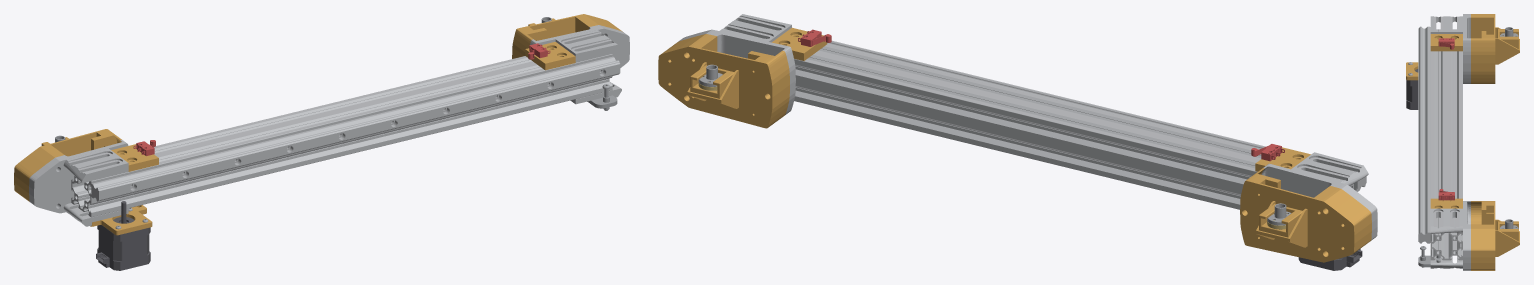
The model's file is y_axis_assembly.glb.
The picture shows the model from 3 angles, left to right: view 1: azimuth 30°, elevation 25°; view 2: azimuth 150°, elevation 25°; view 3: azimuth 270°, elevation 25°; orthographic projection. The views are drawn at different scales.
Parts seen in each view (by area): view 1: pt_2#0, pt_17#7, pt_48#6, pt_27#28, pt_28#9, pt_11#3, pt_24#25, pt_57#8, pt_10#20, pt_10#22; view 2: pt_2#0, pt_24#25, pt_11#3, pt_48#6, pt_27#28, pt_17#7, pt_10#20, pt_26#27, pt_35#5, pt_10#22, pt_28#9; view 3: pt_2#0, pt_17#7, pt_24#25, pt_11#3, pt_27#28, pt_48#6, pt_10#22, pt_28#9, pt_10#20, pt_35#5, pt_26#27, pt_57#8 (+5 smaller).
Part boxes in pixels (<box>): pt_2#0: <box>71,54,612,217</box>; pt_17#7: <box>91,56,620,201</box>; pt_48#6: <box>29,140,128,226</box>; pt_27#28: <box>530,25,629,104</box>; pt_28#9: <box>96,201,150,270</box>; pt_11#3: <box>14,129,121,201</box>; pt_24#25: <box>512,14,622,58</box>; pt_57#8: <box>90,205,152,235</box>; pt_10#20: <box>525,42,575,70</box>; pt_10#22: <box>111,144,158,171</box>; pt_2#0: <box>794,44,1357,209</box>; pt_24#25: <box>658,34,789,128</box>; pt_11#3: <box>1240,168,1371,262</box>; pt_48#6: <box>1261,152,1377,240</box>; pt_27#28: <box>678,14,795,114</box>; pt_17#7: <box>827,40,1366,191</box>; pt_10#20: <box>772,27,827,60</box>; pt_26#27: <box>690,65,734,98</box>; pt_35#5: <box>1259,204,1302,237</box>; pt_10#22: <box>1255,147,1310,171</box>; pt_28#9: <box>1298,249,1362,270</box>; pt_2#0: <box>1430,29,1462,260</box>; pt_17#7: <box>1418,26,1430,243</box>; pt_24#25: <box>1471,201,1519,270</box>; pt_11#3: <box>1471,14,1519,83</box>; pt_27#28: <box>1430,201,1470,270</box>; pt_48#6: <box>1430,14,1470,83</box>; pt_10#22: <box>1430,34,1462,51</box>; pt_28#9: <box>1406,69,1418,109</box>; pt_10#20: <box>1430,198,1462,208</box>; pt_35#5: <box>1497,29,1518,49</box>; pt_26#27: <box>1497,221,1518,241</box>; pt_57#8: <box>1406,62,1418,80</box>.
Size of the model in its own units: 0.6857 by 0.1066 by 0.14.
